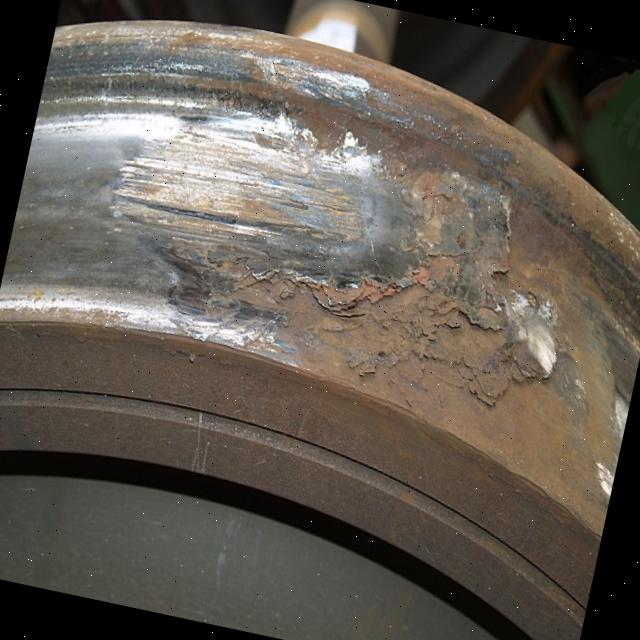Peeling: (67, 23, 568, 431)
